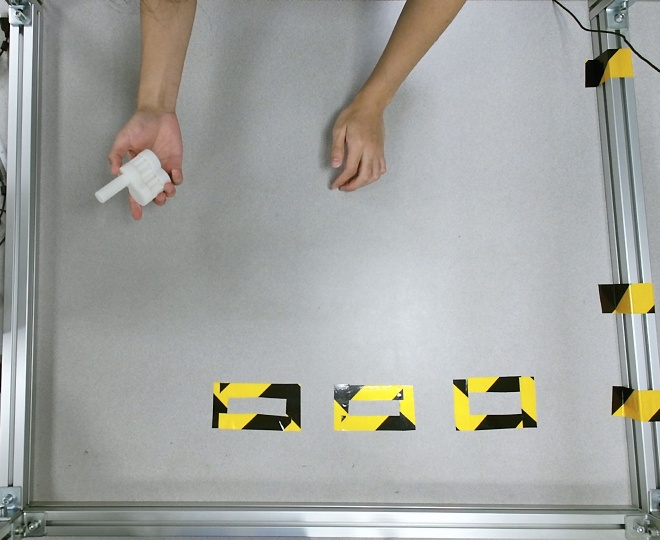stage_4: (95, 149, 172, 207)
